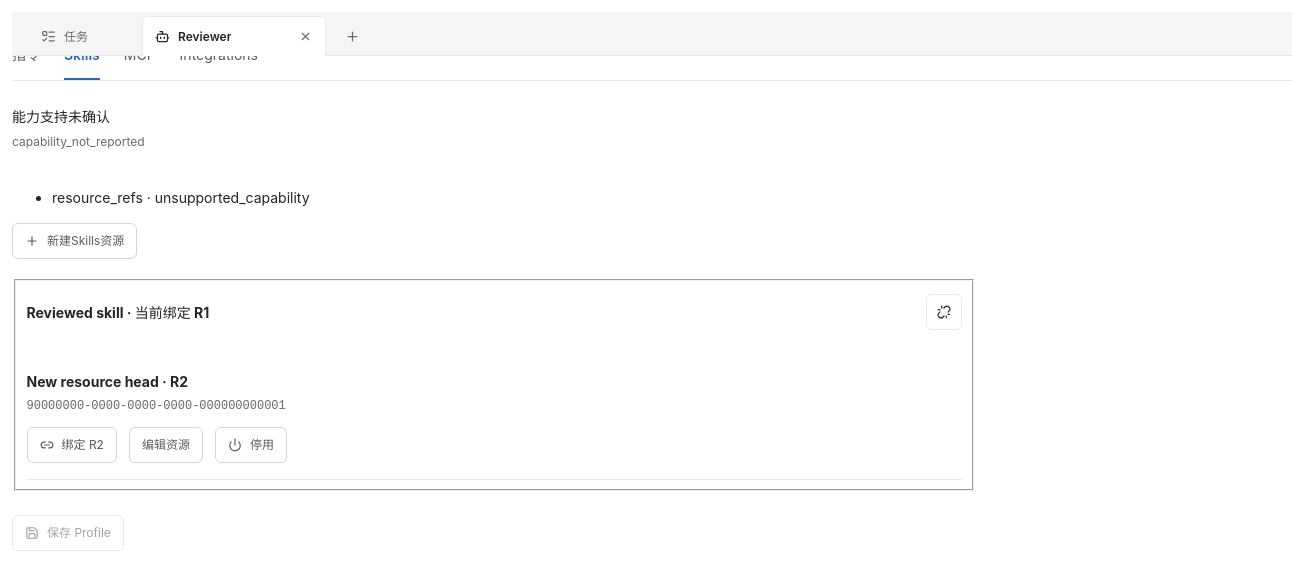
Scenario: independent resources and immutable Profile capability bindings › changes resource enabled state with its exact status version and leaves Profile bindings unchanged
Step 1. Click the button with aria-label "停用 New resource head" → (251, 445), box [215,427,287,463]
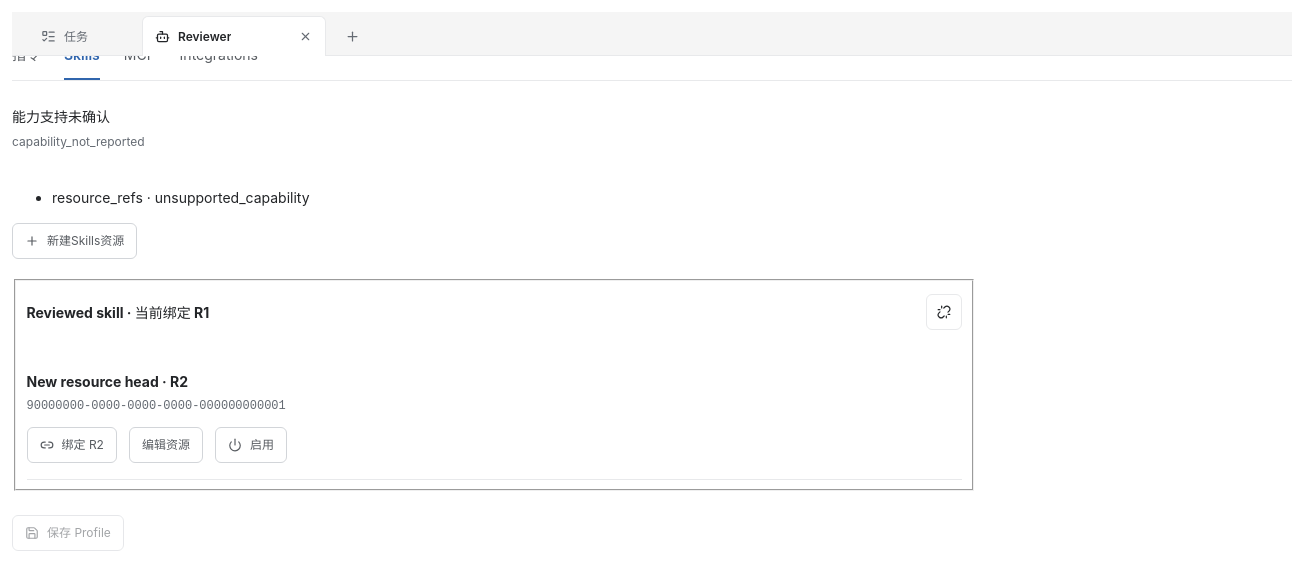
Check: the text "Reviewed skill · 当前绑定 R1" is shown, box [26,300,209,324]
Check: the button with aria-label "启用 New resource head" is shown, box [215,427,287,463]
